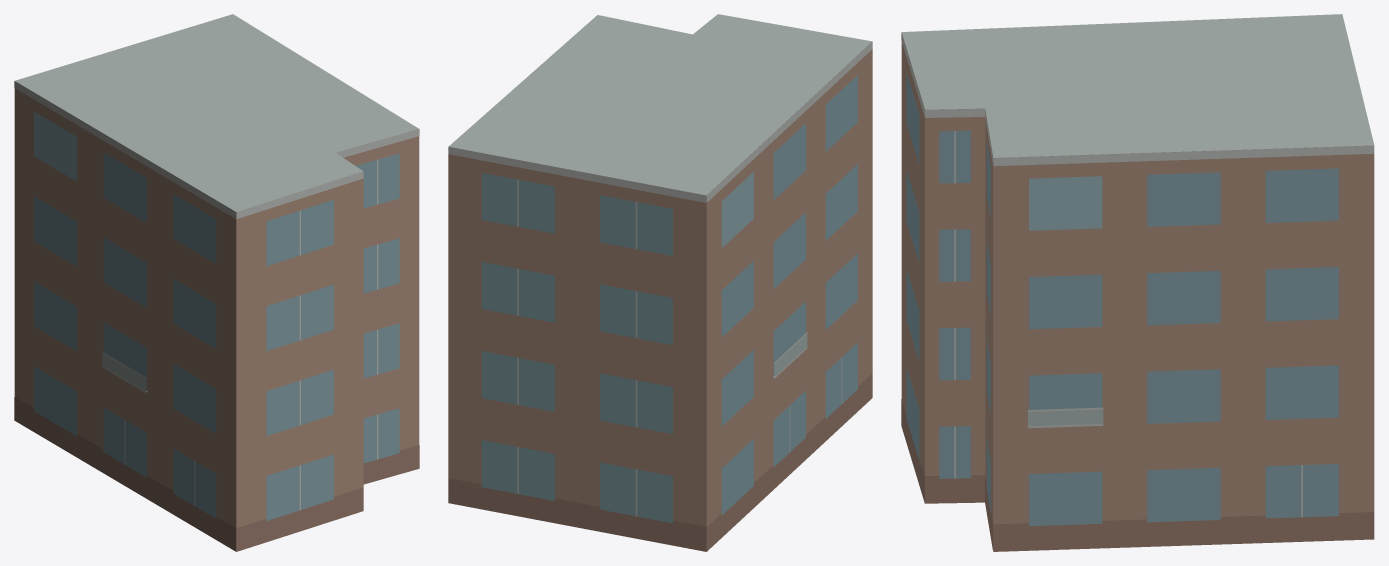
File: survey-upis-32535126.glb
3 renders of one model, left to right at view 1: azimuth 30°, elevation 25°; view 2: azimuth 150°, elevation 25°; view 3: azimuth 270°, elevation 25°, orthographic. The views are drawn at different scales.
Parts seen in each view (by area): view 1: survey-upis-32535126.tmp; view 2: survey-upis-32535126.tmp; view 3: survey-upis-32535126.tmp.
Part boxes in pixels (box(x1,y1,x2,y2)): survey-upis-32535126.tmp: box(14, 14, 419, 551); survey-upis-32535126.tmp: box(448, 14, 872, 551); survey-upis-32535126.tmp: box(901, 14, 1374, 551).
Bounding box in the file's own units: 9.1 × 11.6 × 12.63.
